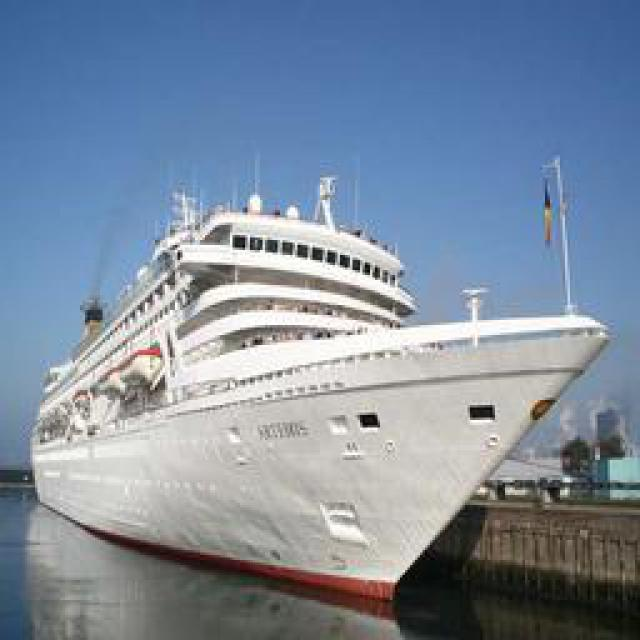Ship: (37, 150, 617, 600)
